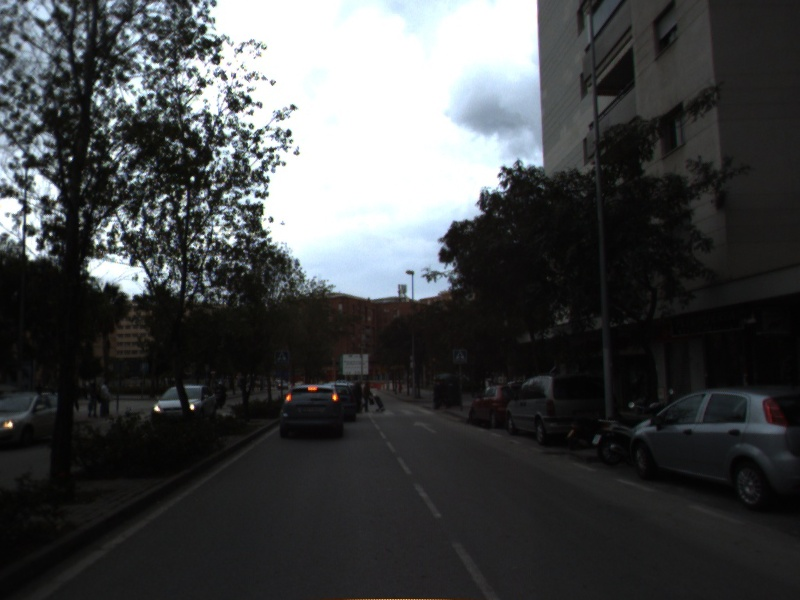STRAIGHT: (411, 419, 440, 436)
